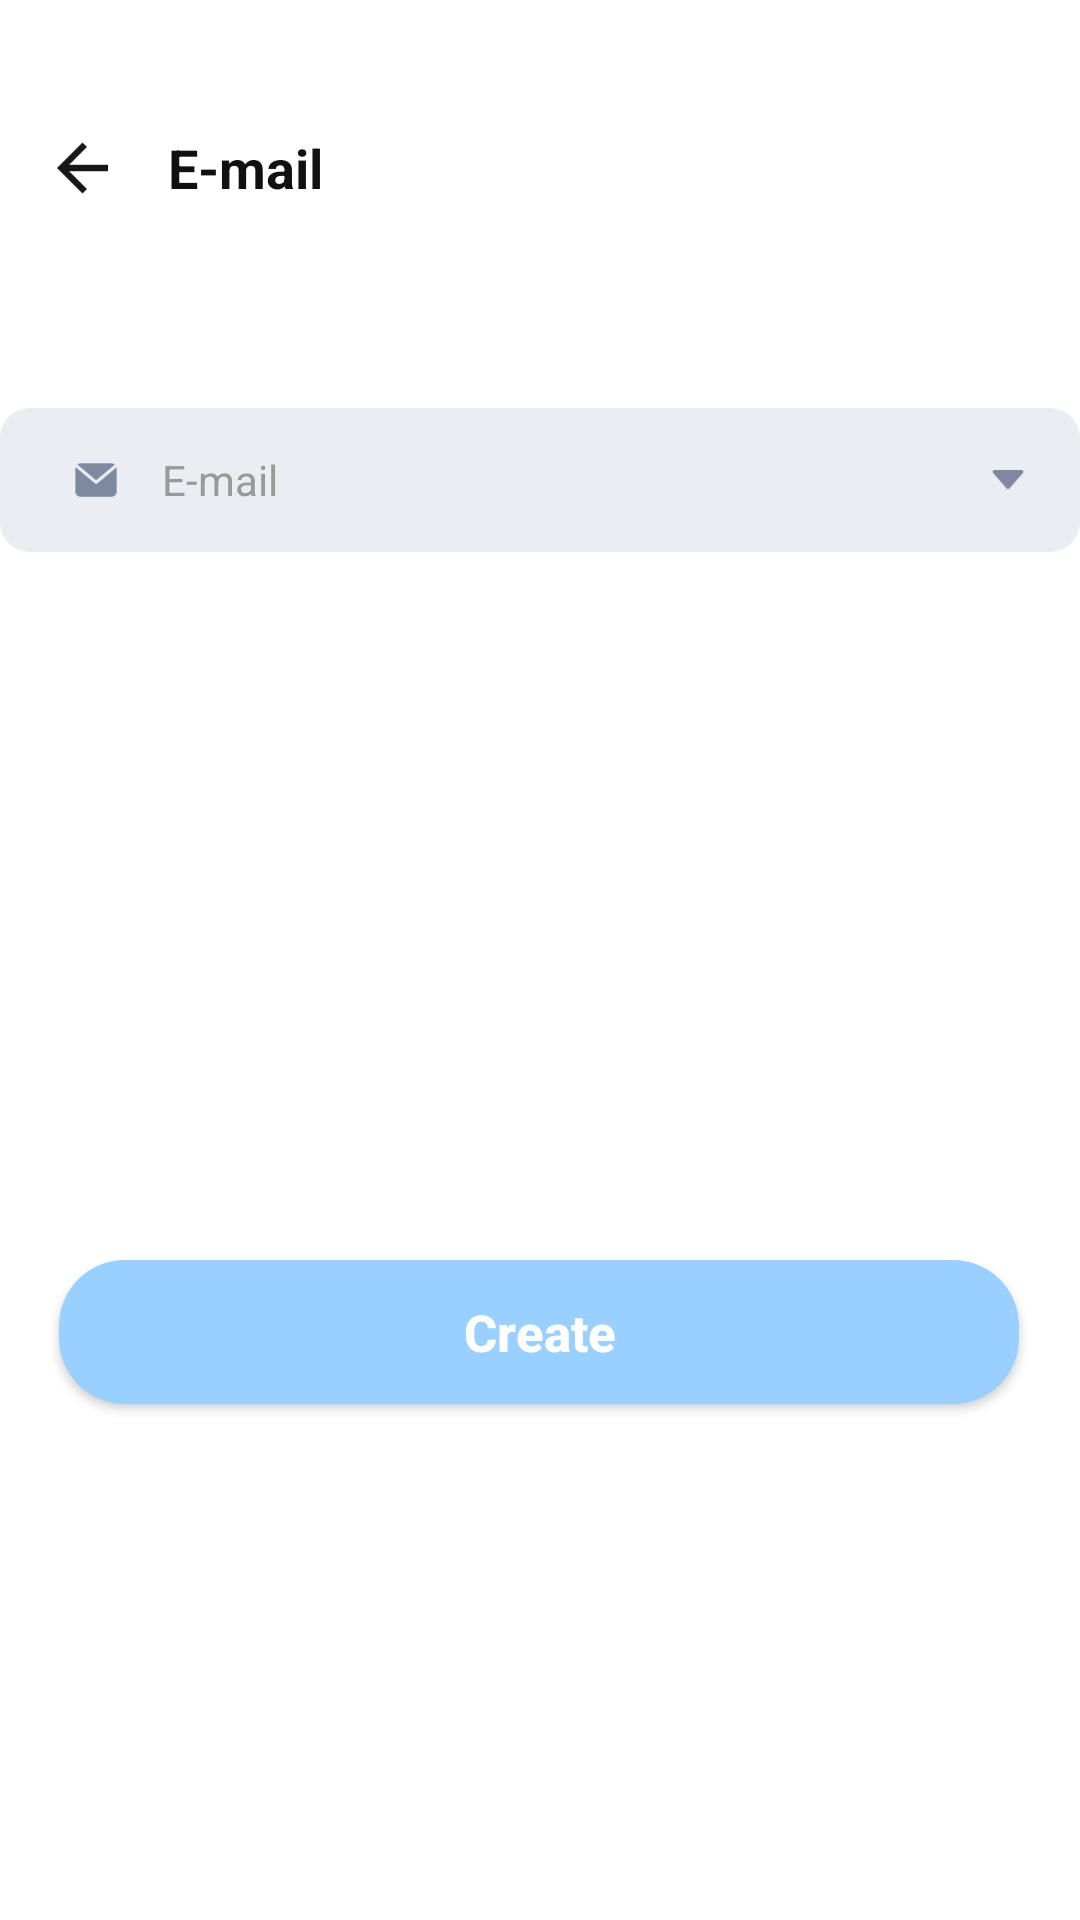

Icons on this 1080 x 1920 Android screen, each with the point to tap as point (x, y):
down: point (1008, 479)
results page return: point (82, 168)
